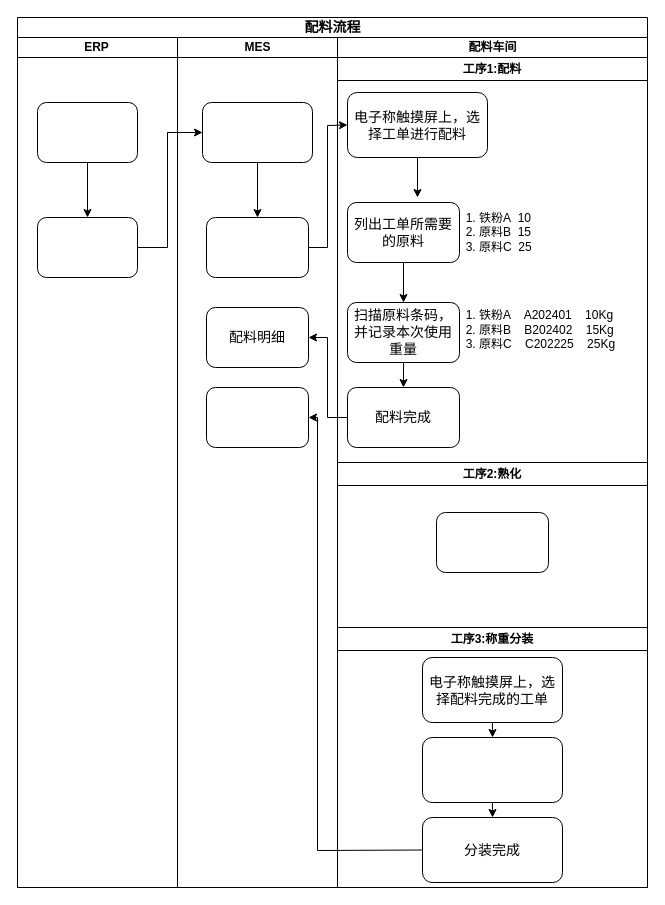
This 665x905 diagram has some shape labels left out. The centre of each missing label's shape, as x and y in pixels:
"人工称重装袋,点击触摸屏打印条码,一袋一码" belongs at [492,769].
"分装明细" belongs at [257,417].
"同步生产计划等数据" belongs at [257,132].
"开始人工合成炒料" belongs at [492,542].
"生产工单" belongs at [257,247].
"生产计划单" belongs at [87,247].
"销售订单" belongs at [87,132].
